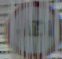Heavy Vehicles: (9, 6, 56, 44)
